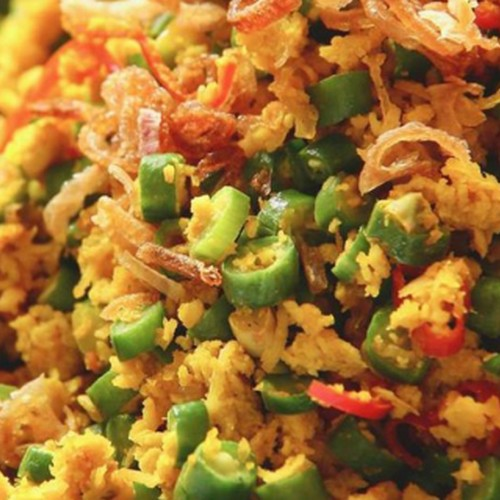lawar: (3, 11, 500, 495)
